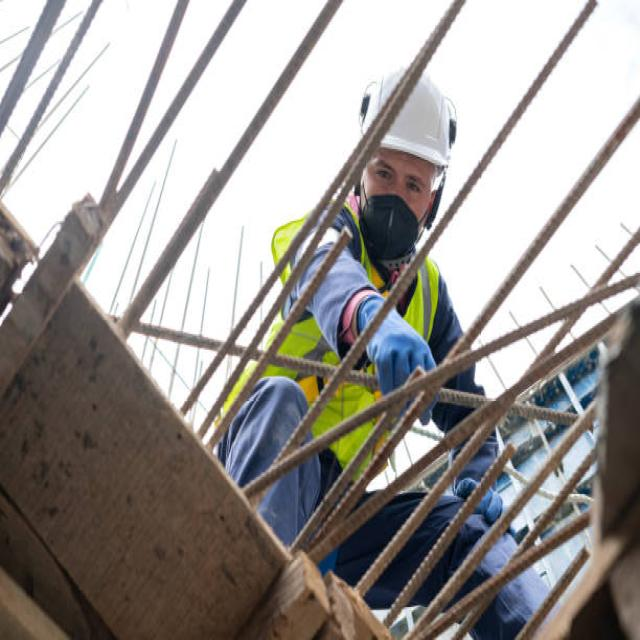Gloves: (354, 292, 440, 428), (453, 445, 516, 531)
Vest: (217, 199, 456, 480)
helmet: (356, 66, 458, 175)
person: (213, 68, 562, 640)
